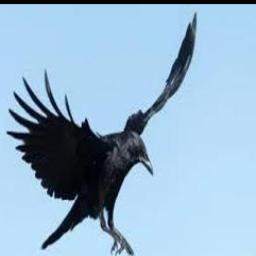Crow: (6, 11, 198, 256)
